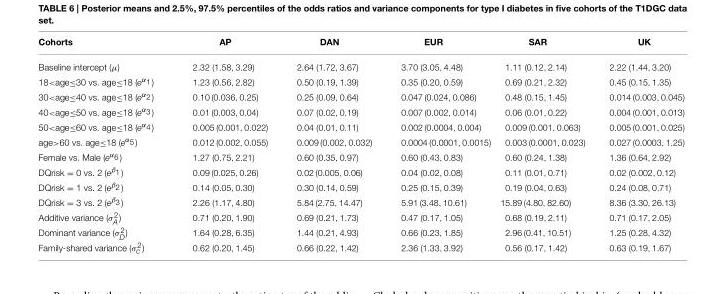table: (37, 37, 683, 254)
table column: (37, 37, 172, 254), (172, 37, 281, 254), (385, 37, 494, 254), (281, 37, 385, 254), (494, 37, 596, 254), (596, 37, 683, 254)
table column header: (37, 37, 683, 54)
table row: (37, 54, 683, 73), (37, 37, 683, 54), (37, 208, 683, 225), (37, 163, 683, 179), (37, 73, 683, 88), (37, 88, 683, 103), (37, 103, 683, 118), (37, 118, 683, 133), (37, 133, 683, 148), (37, 148, 683, 163), (37, 179, 683, 194), (37, 225, 683, 240), (37, 194, 683, 208), (37, 240, 683, 254)
